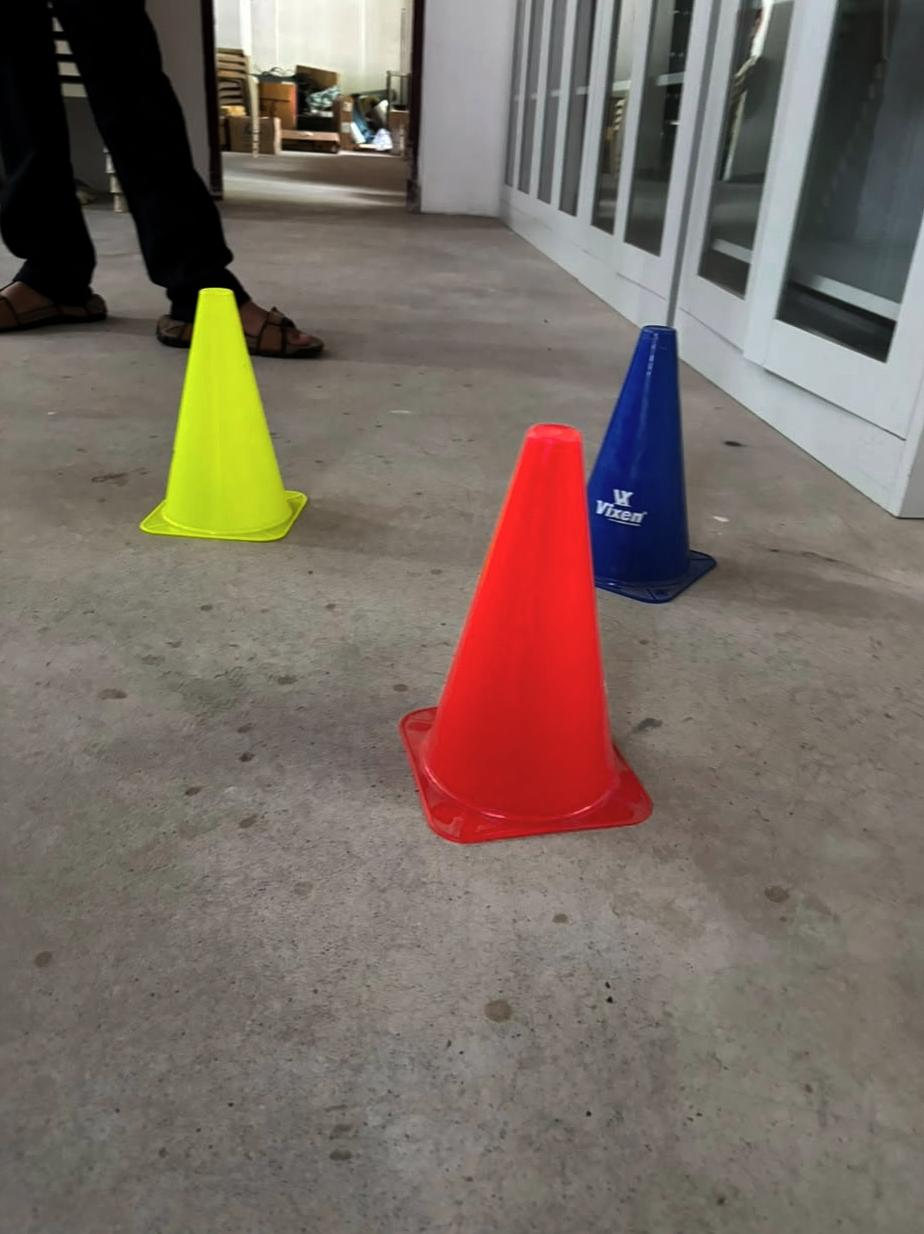0 cone: (400, 326, 715, 843), (141, 289, 306, 541)
